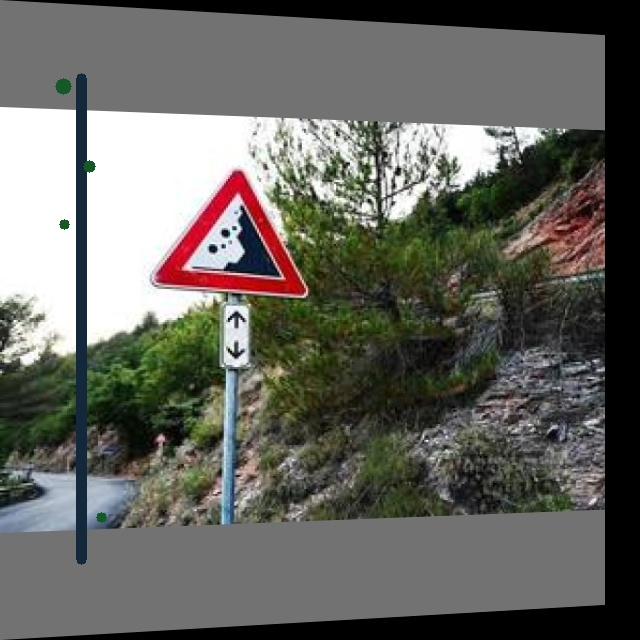Falling_Rocks: (143, 168, 314, 296)
